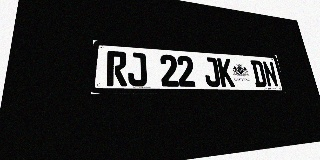2: (160, 54, 179, 87), (177, 55, 195, 87)
D: (250, 60, 267, 87)
J: (127, 52, 147, 86), (202, 57, 221, 87)
K: (217, 58, 235, 87)
N: (262, 61, 279, 87)
R: (107, 51, 127, 86)
